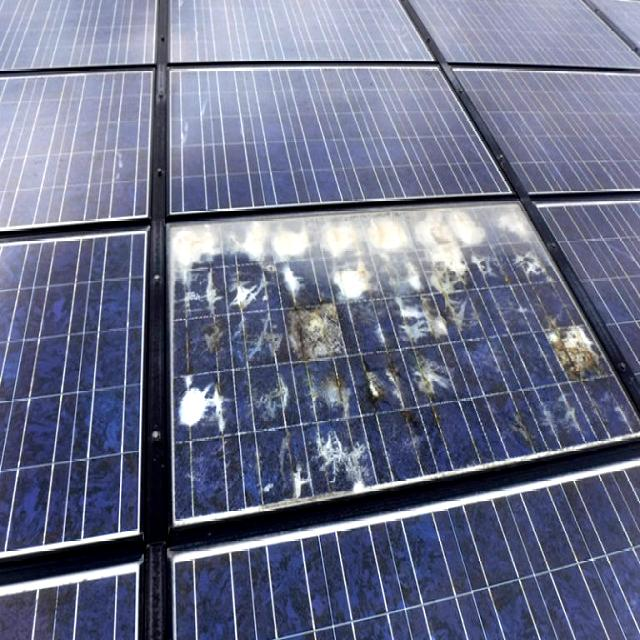hotspot: (175, 218, 520, 272), (386, 286, 476, 424), (522, 296, 606, 407), (272, 422, 372, 486), (280, 296, 348, 389), (168, 344, 219, 464)
